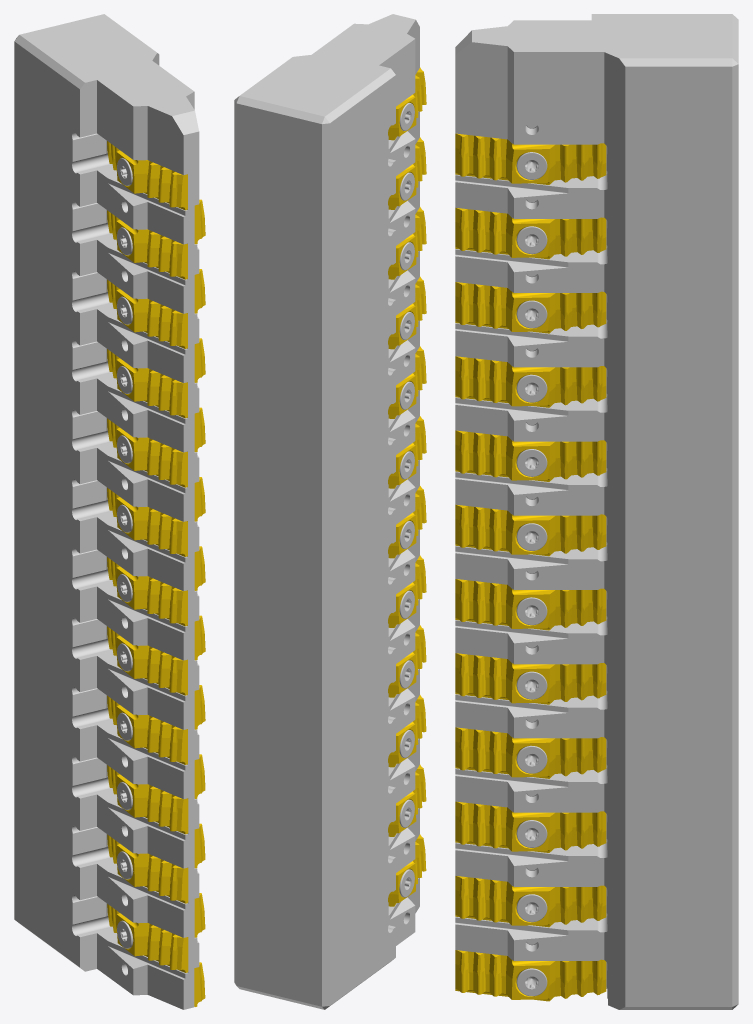
File: 6177-0005 Hoffmann 28-250-ed.glb
The picture shows the model from 3 angles, left to right: view 1: azimuth 30°, elevation 25°; view 2: azimuth 150°, elevation 25°; view 3: azimuth 270°, elevation 25°; orthographic projection. The views are drawn at different scales.
Bounding box in the file's own units: 28 × 250 × 67.5.
